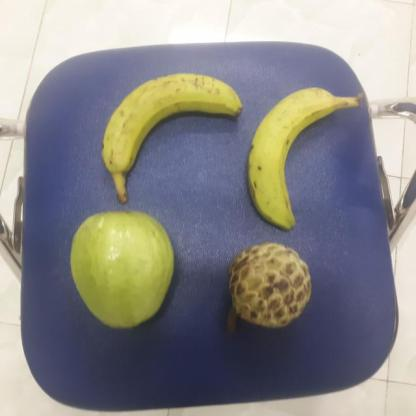annona: (226, 241, 314, 330)
banana: (98, 69, 245, 177), (244, 80, 338, 231)
guava: (69, 208, 178, 332)
